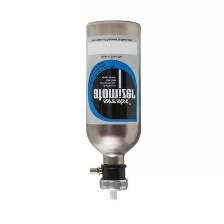aerosol_cans: (79, 17, 146, 206)
